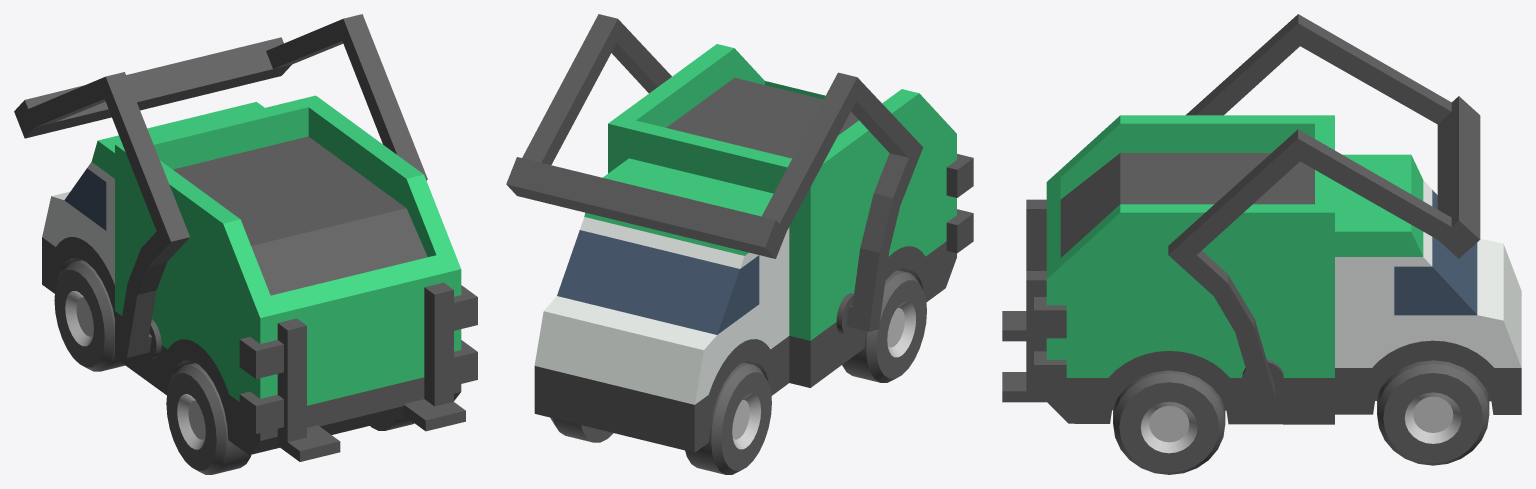
File: carGarbage.fbx
The picture shows the model from 3 angles, left to right: view 1: azimuth 30°, elevation 25°; view 2: azimuth 150°, elevation 25°; view 3: azimuth 270°, elevation 25°; orthographic projection.
Parts seen in each view (by area): view 1: body 3, arm, bar 1, bar, wheelBackLeft 3, wheelFrontLeft 3; view 2: body 3, arm, wheelFrontLeft 3, wheelBackLeft 3, bar 1, wheelFrontRight 3; view 3: body 3, arm, wheelFrontRight 3, wheelBackRight 3, bar, bar 1.
Boxes of the visible parts, x1,y1,x2,y2 form: body 3: (42, 95, 461, 455); arm: (14, 14, 427, 358); bar 1: (239, 318, 340, 461); bar: (403, 282, 477, 431); wheelBackLeft 3: (166, 363, 251, 474); wheelFrontLeft 3: (54, 260, 125, 371); body 3: (534, 44, 956, 452); arm: (506, 14, 922, 335); wheelFrontLeft 3: (685, 362, 771, 474); wheelBackLeft 3: (842, 270, 926, 382); bar 1: (946, 154, 973, 253); wheelFrontRight 3: (550, 417, 613, 442); body 3: (1046, 115, 1521, 424); arm: (1168, 14, 1480, 402); wheelFrontRight 3: (1377, 360, 1489, 465); wheelBackRight 3: (1113, 370, 1225, 474); bar: (1002, 271, 1066, 402); bar 1: (1002, 199, 1046, 341).
Size of the model in its own units: 7.35 by 9.68 by 12.95.
